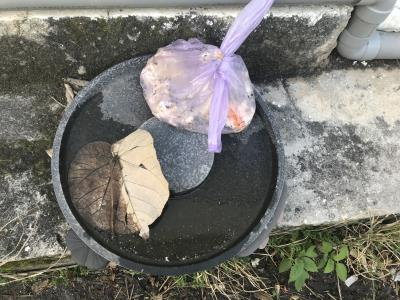plastic_bag: (138, 39, 258, 132)
plate: (47, 52, 291, 283)
